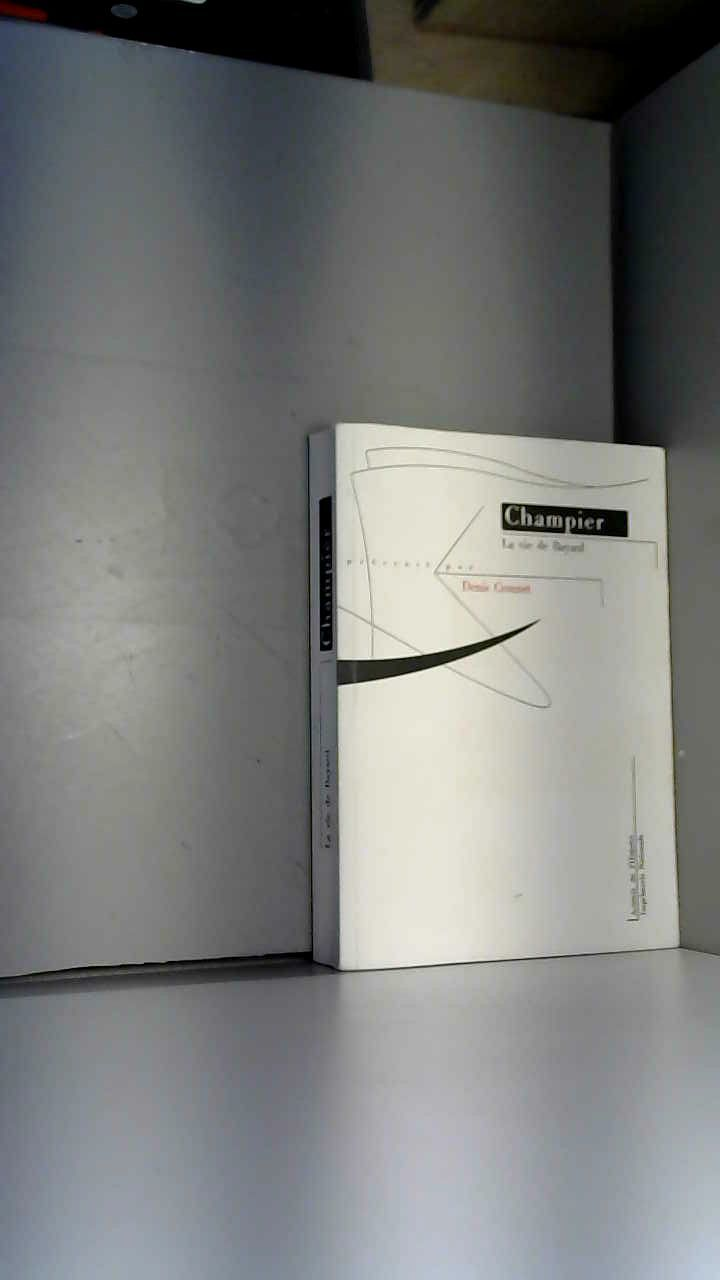book: (273, 387, 720, 1006)
